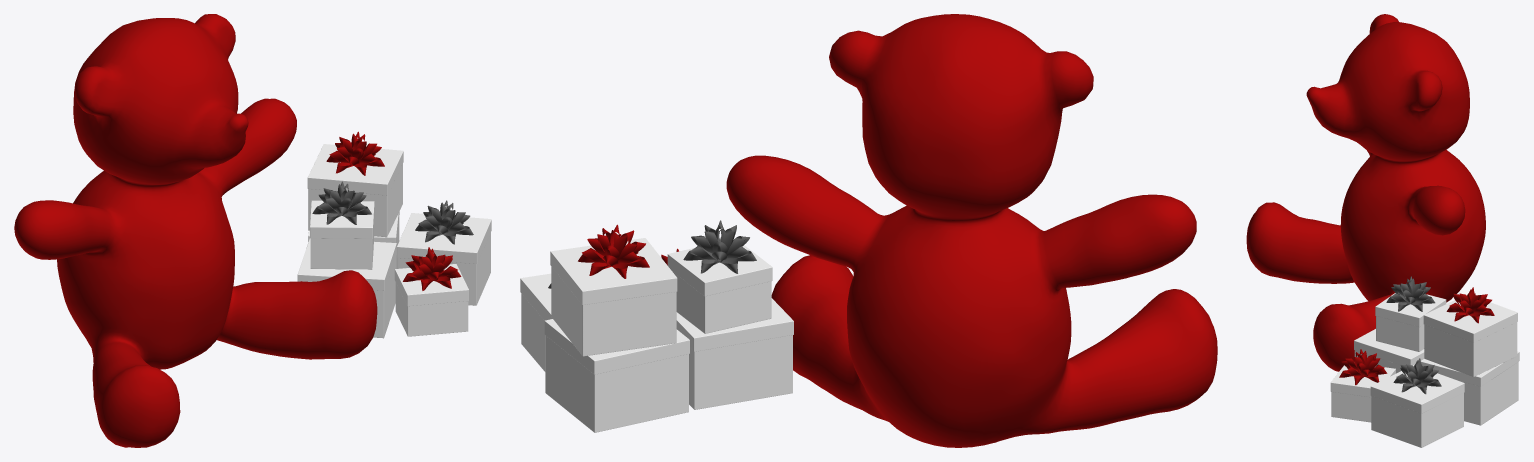
Rendered from osoRegalos.glb.
3 renders of one model, left to right at view 1: azimuth 30°, elevation 25°; view 2: azimuth 150°, elevation 25°; view 3: azimuth 270°, elevation 25°, orthographic. The views are drawn at different scales.
Visible parts, largest first — view 1: Oso_Base03:Group42068, cgaxis_models_39_28_01_2, cgaxis_models_39_28_01_3, cgaxis_models_39_28_02_3, cgaxis_models_39_28_02_1, cgaxis_models_39_28_01_1, cgaxis_models_39_28_03_1, cgaxis_models_39_28_04_2, cgaxis_models_39_28_04_1, cgaxis_models_39_28_03_2; view 2: Oso_Base03:Group42068, cgaxis_models_39_28_01_2, cgaxis_models_39_28_02_2, cgaxis_models_39_28_01_1, cgaxis_models_39_28_02_1, cgaxis_models_39_28_02_3, cgaxis_models_39_28_03_1, cgaxis_models_39_28_04_1; view 3: Oso_Base03:Group42068, cgaxis_models_39_28_01_2, cgaxis_models_39_28_02_3, cgaxis_models_39_28_02_2, cgaxis_models_39_28_02_1, cgaxis_models_39_28_01_3, cgaxis_models_39_28_01_1, cgaxis_models_39_28_03_2, cgaxis_models_39_28_04_1, cgaxis_models_39_28_03_1, cgaxis_models_39_28_04_2.
Part boxes in pixels (box(x1,y1,x2,y2)): Oso_Base03:Group42068: box(14, 14, 377, 447); cgaxis_models_39_28_01_2: box(307, 144, 403, 237); cgaxis_models_39_28_01_3: box(394, 264, 468, 336); cgaxis_models_39_28_02_3: box(397, 213, 491, 305); cgaxis_models_39_28_02_1: box(310, 200, 374, 269); cgaxis_models_39_28_01_1: box(297, 238, 396, 338); cgaxis_models_39_28_03_1: box(326, 131, 384, 175); cgaxis_models_39_28_04_2: box(415, 200, 473, 244); cgaxis_models_39_28_04_1: box(312, 181, 371, 224); cgaxis_models_39_28_03_2: box(403, 247, 461, 290); Oso_Base03:Group42068: box(726, 14, 1217, 447); cgaxis_models_39_28_01_2: box(550, 238, 677, 356); cgaxis_models_39_28_02_2: box(544, 319, 689, 432); cgaxis_models_39_28_01_1: box(676, 298, 793, 409); cgaxis_models_39_28_02_1: box(667, 238, 772, 333); cgaxis_models_39_28_02_3: box(520, 273, 552, 371); cgaxis_models_39_28_03_1: box(578, 224, 649, 278); cgaxis_models_39_28_04_1: box(683, 220, 756, 273); Oso_Base03:Group42068: box(1246, 14, 1485, 371); cgaxis_models_39_28_01_2: box(1423, 294, 1517, 376); cgaxis_models_39_28_02_3: box(1370, 365, 1464, 447); cgaxis_models_39_28_02_2: box(1421, 351, 1519, 425); cgaxis_models_39_28_02_1: box(1375, 293, 1446, 351); cgaxis_models_39_28_01_3: box(1330, 365, 1395, 422); cgaxis_models_39_28_01_1: box(1354, 329, 1424, 373); cgaxis_models_39_28_03_2: box(1339, 349, 1387, 385); cgaxis_models_39_28_04_1: box(1386, 276, 1435, 311); cgaxis_models_39_28_03_1: box(1446, 287, 1494, 323); cgaxis_models_39_28_04_2: box(1393, 358, 1441, 394).
Bounding box in the file's own units: 3.81 × 2.44 × 2.15.
